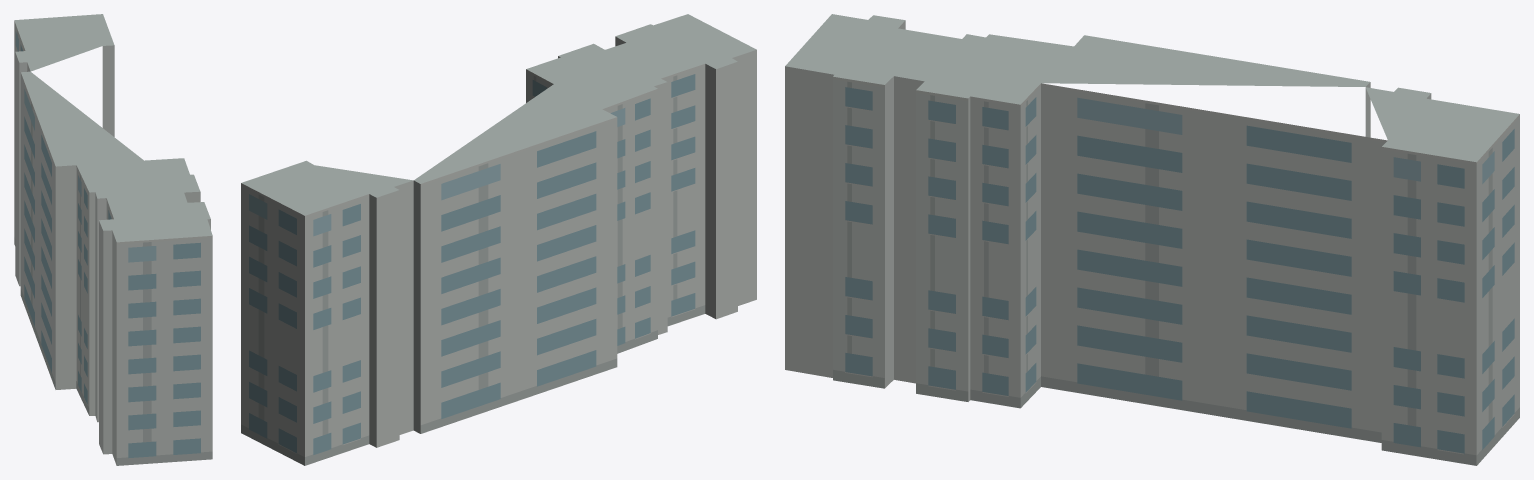
File: survey-upis-32868490.glb
3 views of the same model, side by side, from view 1: azimuth 30°, elevation 25°; view 2: azimuth 150°, elevation 25°; view 3: azimuth 270°, elevation 25° (orthographic). The views are drawn at different scales.
Parts seen in each view (by area): view 1: survey-upis-32868490.tmp; view 2: survey-upis-32868490.tmp; view 3: survey-upis-32868490.tmp.
Part boxes in pixels (x1,y1,x2,y2): survey-upis-32868490.tmp: [14, 14, 212, 465]; survey-upis-32868490.tmp: [241, 14, 756, 465]; survey-upis-32868490.tmp: [785, 14, 1519, 465].
Size of the model in its own units: 28.81 by 27.5 by 60.32.
